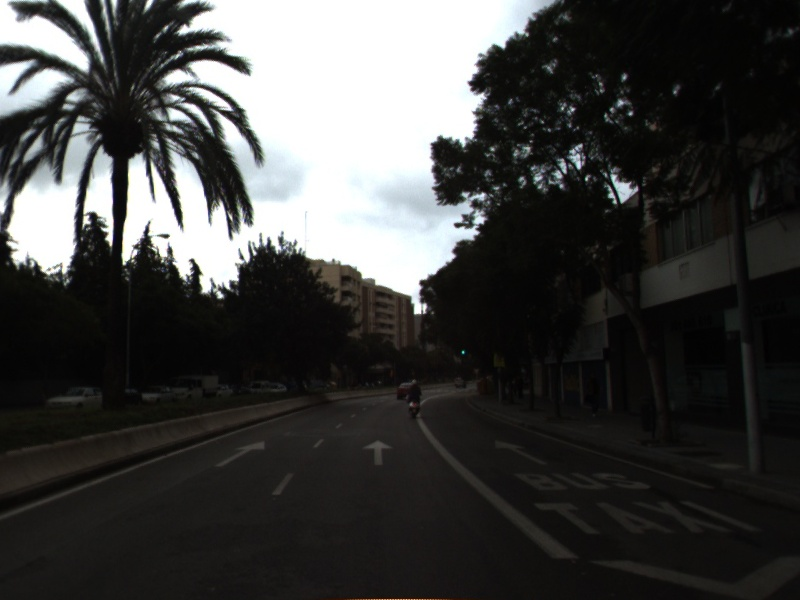STRAIGHT: (211, 438, 267, 469), (493, 438, 549, 466), (361, 437, 395, 467)
